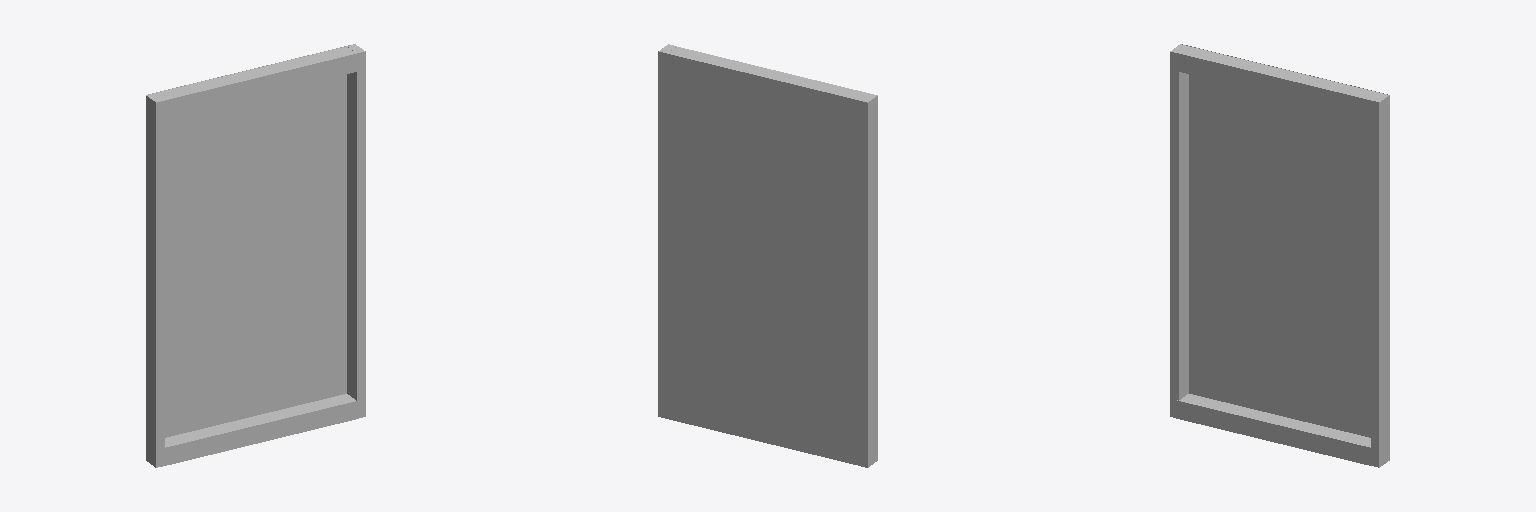
Rendered from field4.obj.
The picture shows the model from 3 angles: view 1: azimuth 30°, elevation 25°; view 2: azimuth 150°, elevation 25°; view 3: azimuth 330°, elevation 25°; orthographic projection.
Parts seen in each view (by area): view 1: Field_Plane, Left_Cube.001, Right_Cube.002, Lower_Cube.003, Upper_Cube.004; view 2: Field_Plane, Left_Cube.001, Lower_Cube.003; view 3: Field_Plane, Right_Cube.002, Left_Cube.001, Upper_Cube.004, Lower_Cube.003.
Boxes of the visible parts, x1,y1,x2,y2 form: Field_Plane: [148, 44, 353, 437]; Left_Cube.001: [146, 93, 164, 467]; Right_Cube.002: [347, 44, 365, 418]; Lower_Cube.003: [155, 46, 356, 118]; Upper_Cube.004: [163, 394, 356, 465]; Field_Plane: [658, 52, 866, 467]; Left_Cube.001: [859, 93, 877, 467]; Lower_Cube.003: [667, 47, 868, 99]; Field_Plane: [1182, 44, 1387, 437]; Right_Cube.002: [1371, 93, 1389, 467]; Left_Cube.001: [1170, 44, 1188, 417]; Upper_Cube.004: [1176, 394, 1370, 465]; Lower_Cube.003: [1179, 46, 1379, 118].
Size of the model in its own units: 6 by 10.01 by 0.517.